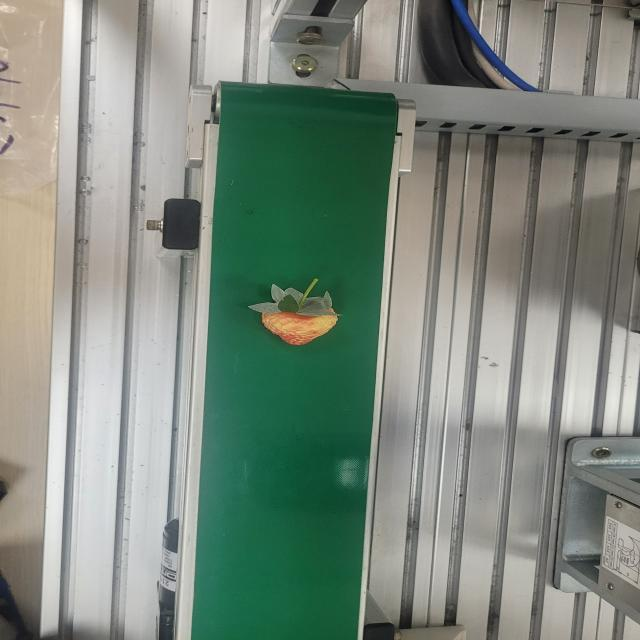Moldy Strawberry: (246, 277, 344, 346)
